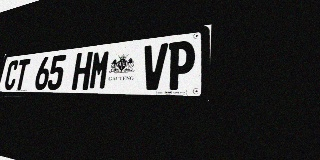5: (47, 54, 66, 90)
6: (34, 56, 52, 90)
C: (3, 60, 20, 90)
H: (71, 51, 93, 90)
M: (88, 49, 111, 90)
P: (166, 40, 196, 90)
T: (14, 59, 31, 90)
V: (141, 43, 168, 90)
